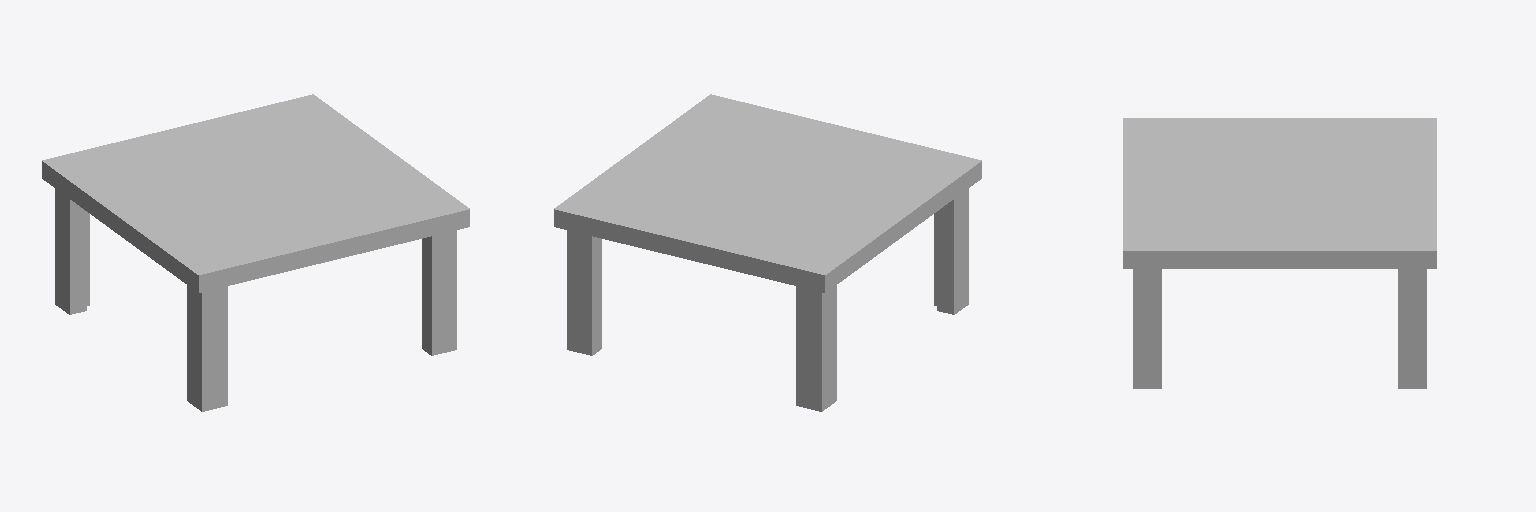
Rendered from table_2x2.obj.
The picture shows the model from 3 angles: view 1: azimuth 30°, elevation 25°; view 2: azimuth 150°, elevation 25°; view 3: azimuth 270°, elevation 25°; orthographic projection.
Visible parts, largest first — view 1: object 1; view 2: object 1; view 3: object 1.
Part boxes in pixels (x1,y1,x2,y2): object 1: (42,94,469,411); object 1: (554,94,981,411); object 1: (1123,118,1436,388).
Size of the model in its own units: 3.2 by 1.6 by 3.2.